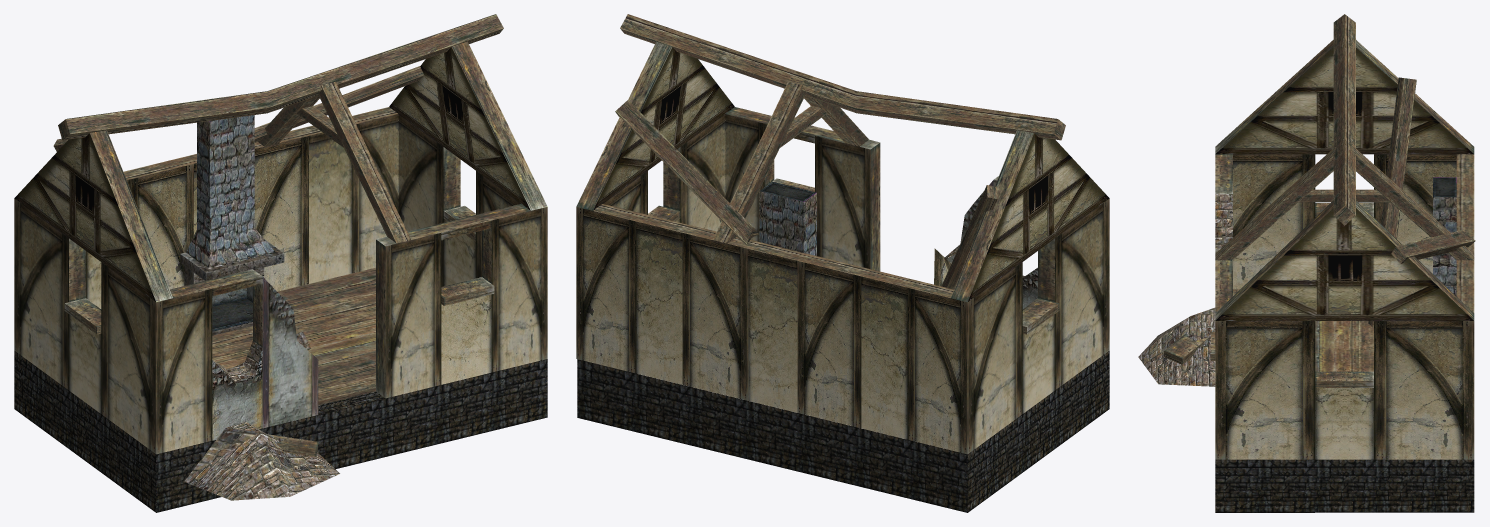
Rendered from S_Ruin01.glb.
3 renders of one model, left to right at view 1: azimuth 30°, elevation 25°; view 2: azimuth 150°, elevation 25°; view 3: azimuth 270°, elevation 25°, orthographic. The views are drawn at different scales.
Visible parts, largest first — view 1: S_Ruin01-col; view 2: S_Ruin01-col; view 3: S_Ruin01-col.
Part boxes in pixels (x1,y1,x2,y2): S_Ruin01-col: (14,14,547,512); S_Ruin01-col: (576,14,1109,512); S_Ruin01-col: (1138,14,1475,512).
Bounding box in the file's own units: 7.82 × 5.93 × 5.73.
12 materials, 12 textured.
